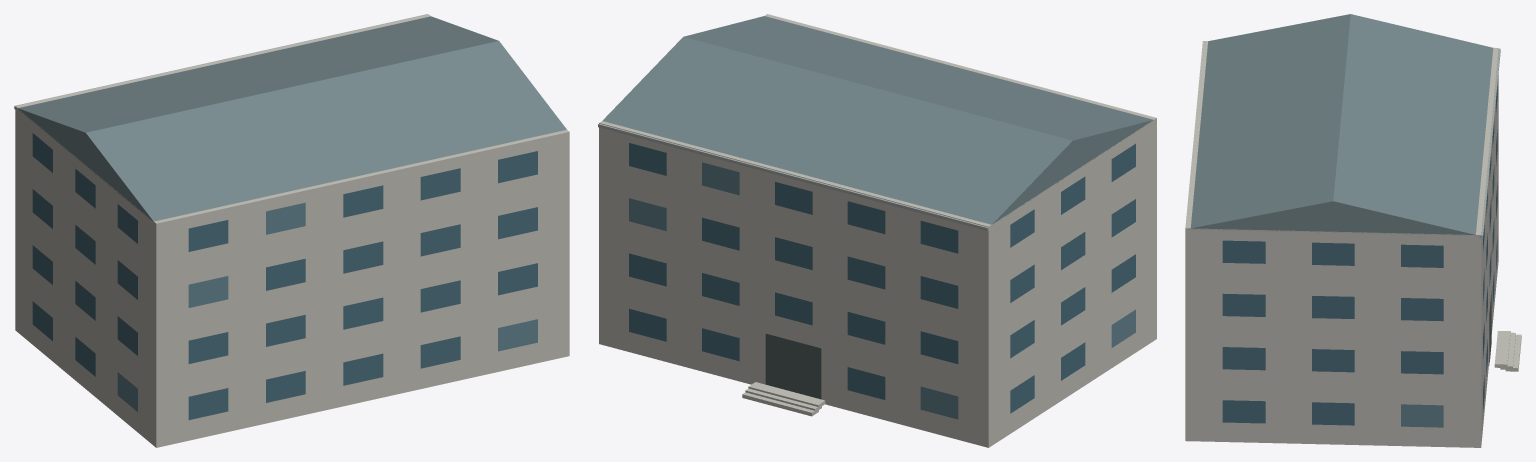
The model's file is 核心区南侧-008.glb.
3 views of the same model, side by side, from view 1: azimuth 30°, elevation 25°; view 2: azimuth 150°, elevation 25°; view 3: azimuth 270°, elevation 25° (orthographic). The views are drawn at different scales.
Parts seen in each view (by area): view 1: 核心区南侧-008; view 2: 核心区南侧-008; view 3: 核心区南侧-008.
Boxes of the visible parts, <box> form: 核心区南侧-008: <box>14,14,569,447</box>; 核心区南侧-008: <box>598,14,1156,447</box>; 核心区南侧-008: <box>1185,14,1521,447</box>.
Bounding box in the file's own units: 28.95 × 16.92 × 21.19.
